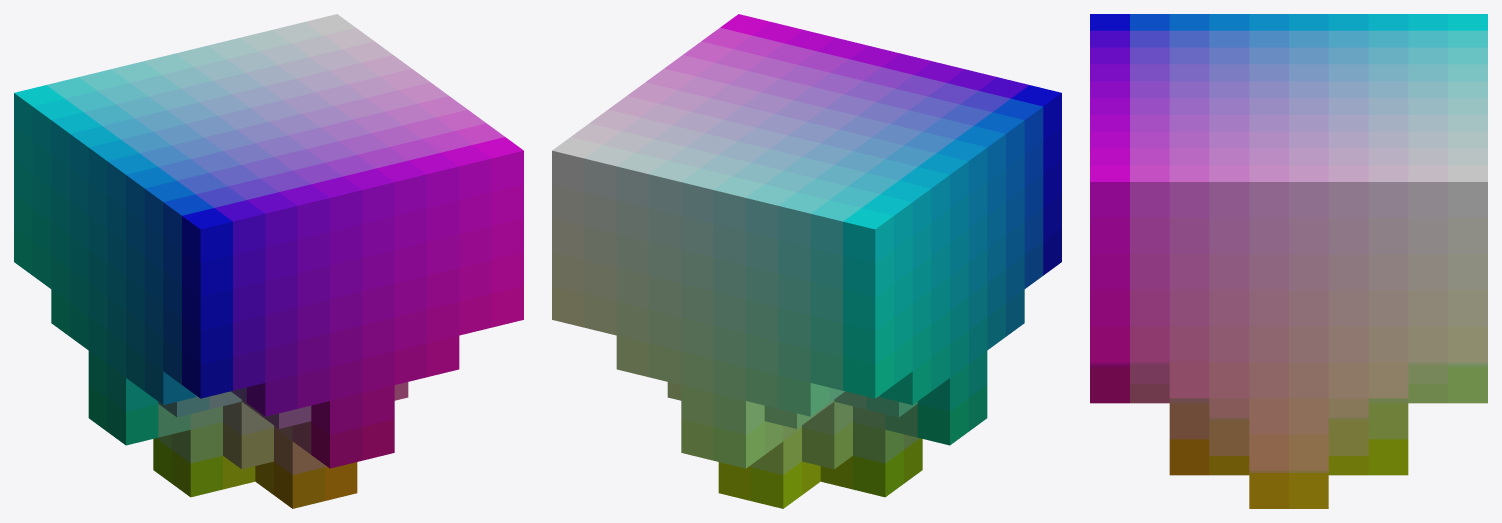
Rendered from rgb_cube.glb.
The picture shows the model from 3 angles, left to right: view 1: azimuth 30°, elevation 25°; view 2: azimuth 150°, elevation 25°; view 3: azimuth 270°, elevation 25°; orthographic projection. The views are drawn at different scales.
Visible parts, largest first — view 1: rgb_cube; view 2: rgb_cube; view 3: rgb_cube.
Boxes of the visible parts, x1=… form: rgb_cube: x1=14, y1=14, x2=523, y2=508; rgb_cube: x1=552, y1=14, x2=1061, y2=508; rgb_cube: x1=1090, y1=14, x2=1487, y2=508.
Size of the model in its own units: 10 by 10 by 10.
